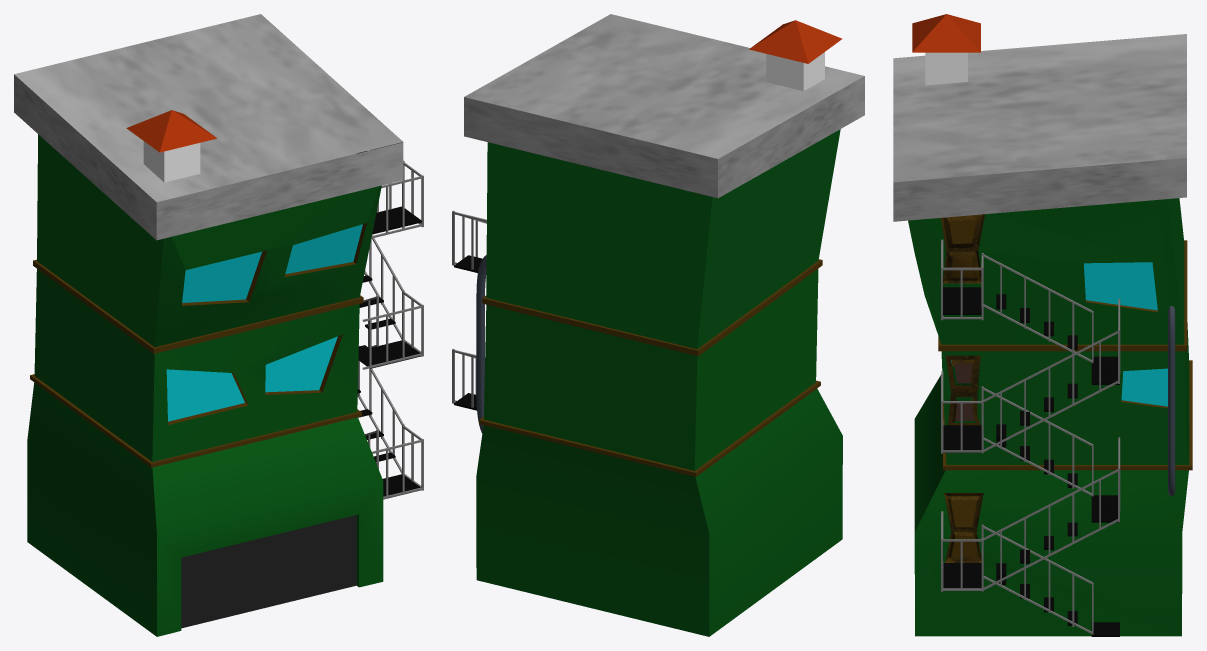
File: PredioTorto-VerdeLOD0.fbx
3 views of the same model, side by side, from view 1: azimuth 30°, elevation 25°; view 2: azimuth 150°, elevation 25°; view 3: azimuth 270°, elevation 25° (orthographic). The views are drawn at different scales.
Parts seen in each view (by area): view 1: Predio3Andares; view 2: Predio3Andares; view 3: Predio3Andares.
Part boxes in pixels (<box>): Predio3Andares: <box>14,14,423,636</box>; Predio3Andares: <box>452,14,864,636</box>; Predio3Andares: <box>893,14,1192,636</box>.
Bounding box in the file's own units: 1035 × 1727 × 895.
